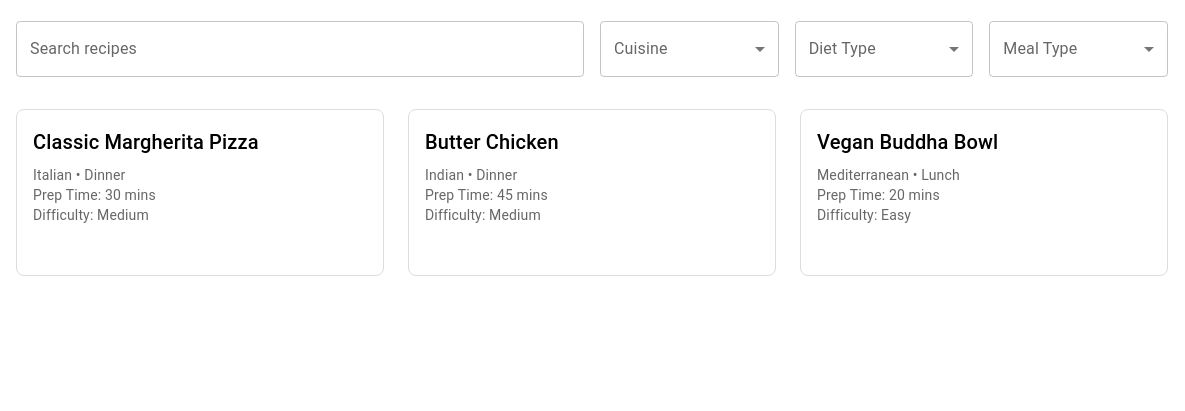
Scenario: Home Component › filter selection updates value
The image size is (1185, 411).
// Open the select dropdown
Press the mouse on the dropdown named "Cuisine" next to "Cuisine" at point(689, 49), box [600,21,779,77]
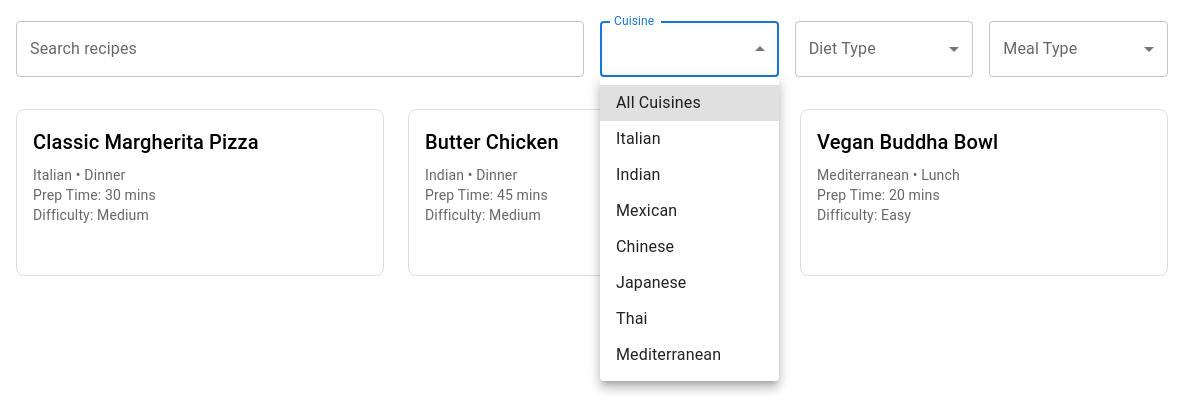
// Find and click the option in the dropdown menu
Click the option "Italian" at point(638, 138), box [616,129,661,148]
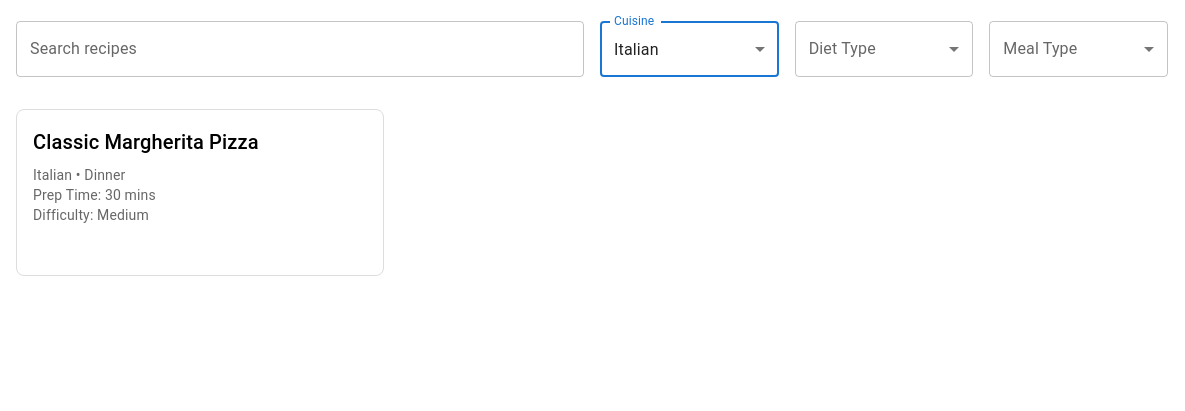
Expected: the dropdown named "Cuisine" reads "Italian", [614,40,659,58]
